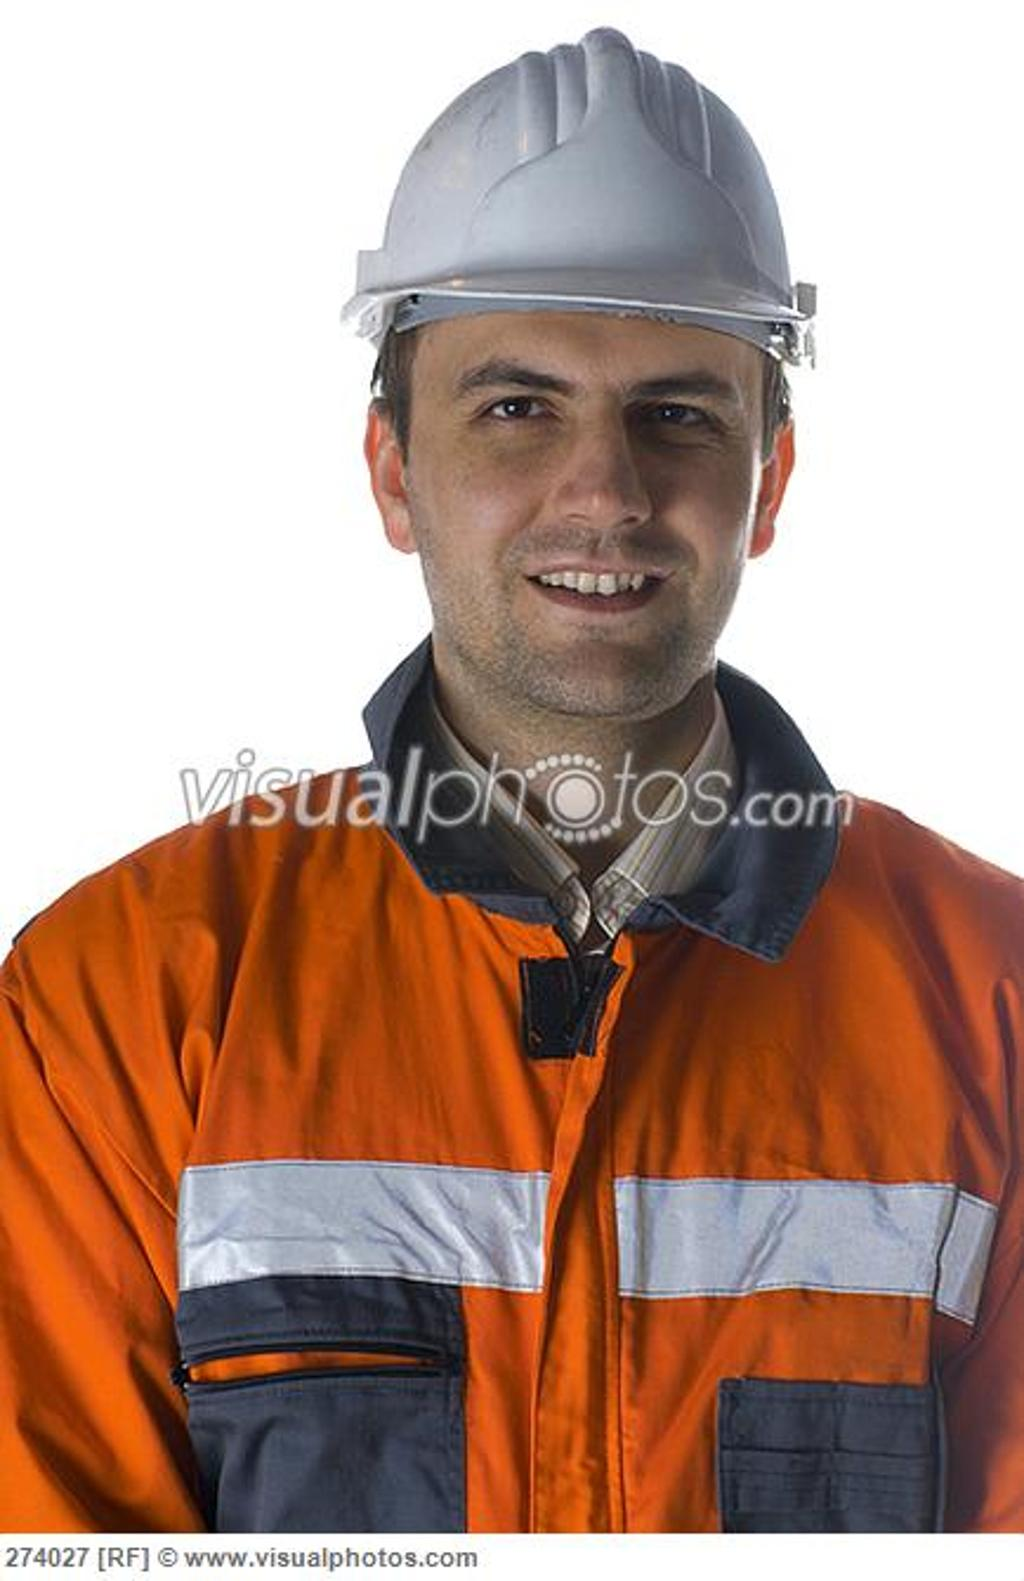face: (419, 225, 749, 697)
